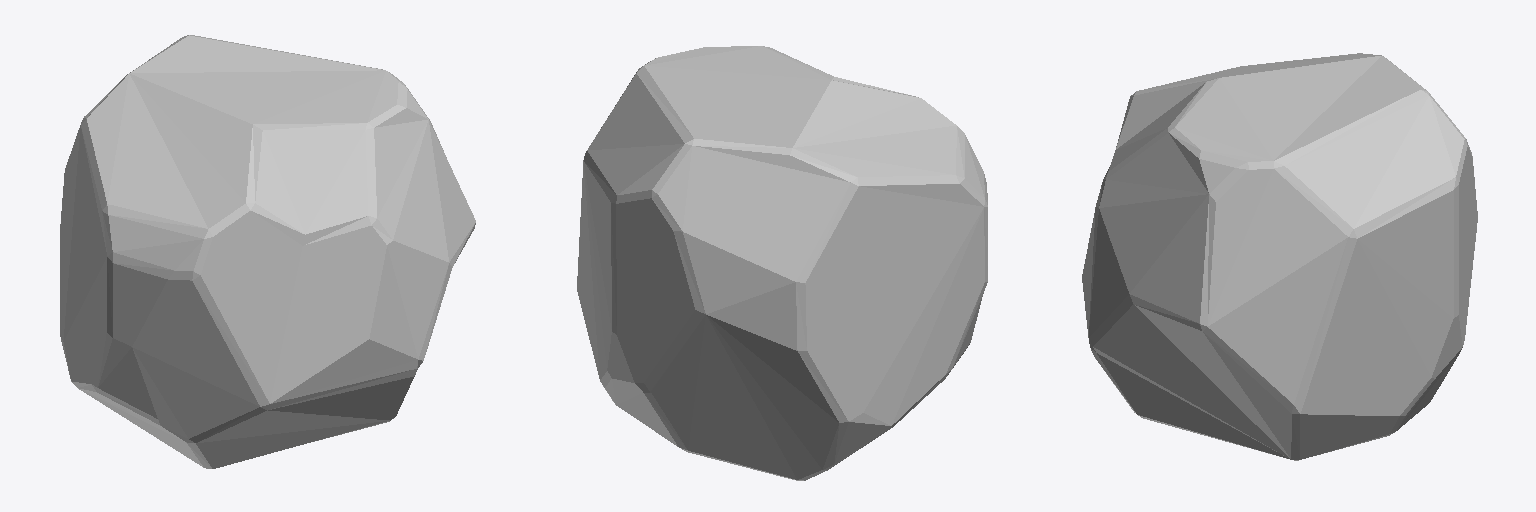
File: rock_round_2.obj
The picture shows the model from 3 angles: view 1: azimuth 30°, elevation 25°; view 2: azimuth 150°, elevation 25°; view 3: azimuth 270°, elevation 25°; orthographic projection.
Parts seen in each view (by area): view 1: rock_round_2; view 2: rock_round_2; view 3: rock_round_2.
Boxes of the visible parts, x1,y1,x2,y2 form: rock_round_2: [60, 35, 475, 468]; rock_round_2: [577, 46, 987, 480]; rock_round_2: [1082, 53, 1477, 460].
Size of the model in its own units: 2.02 by 1.77 by 1.89.